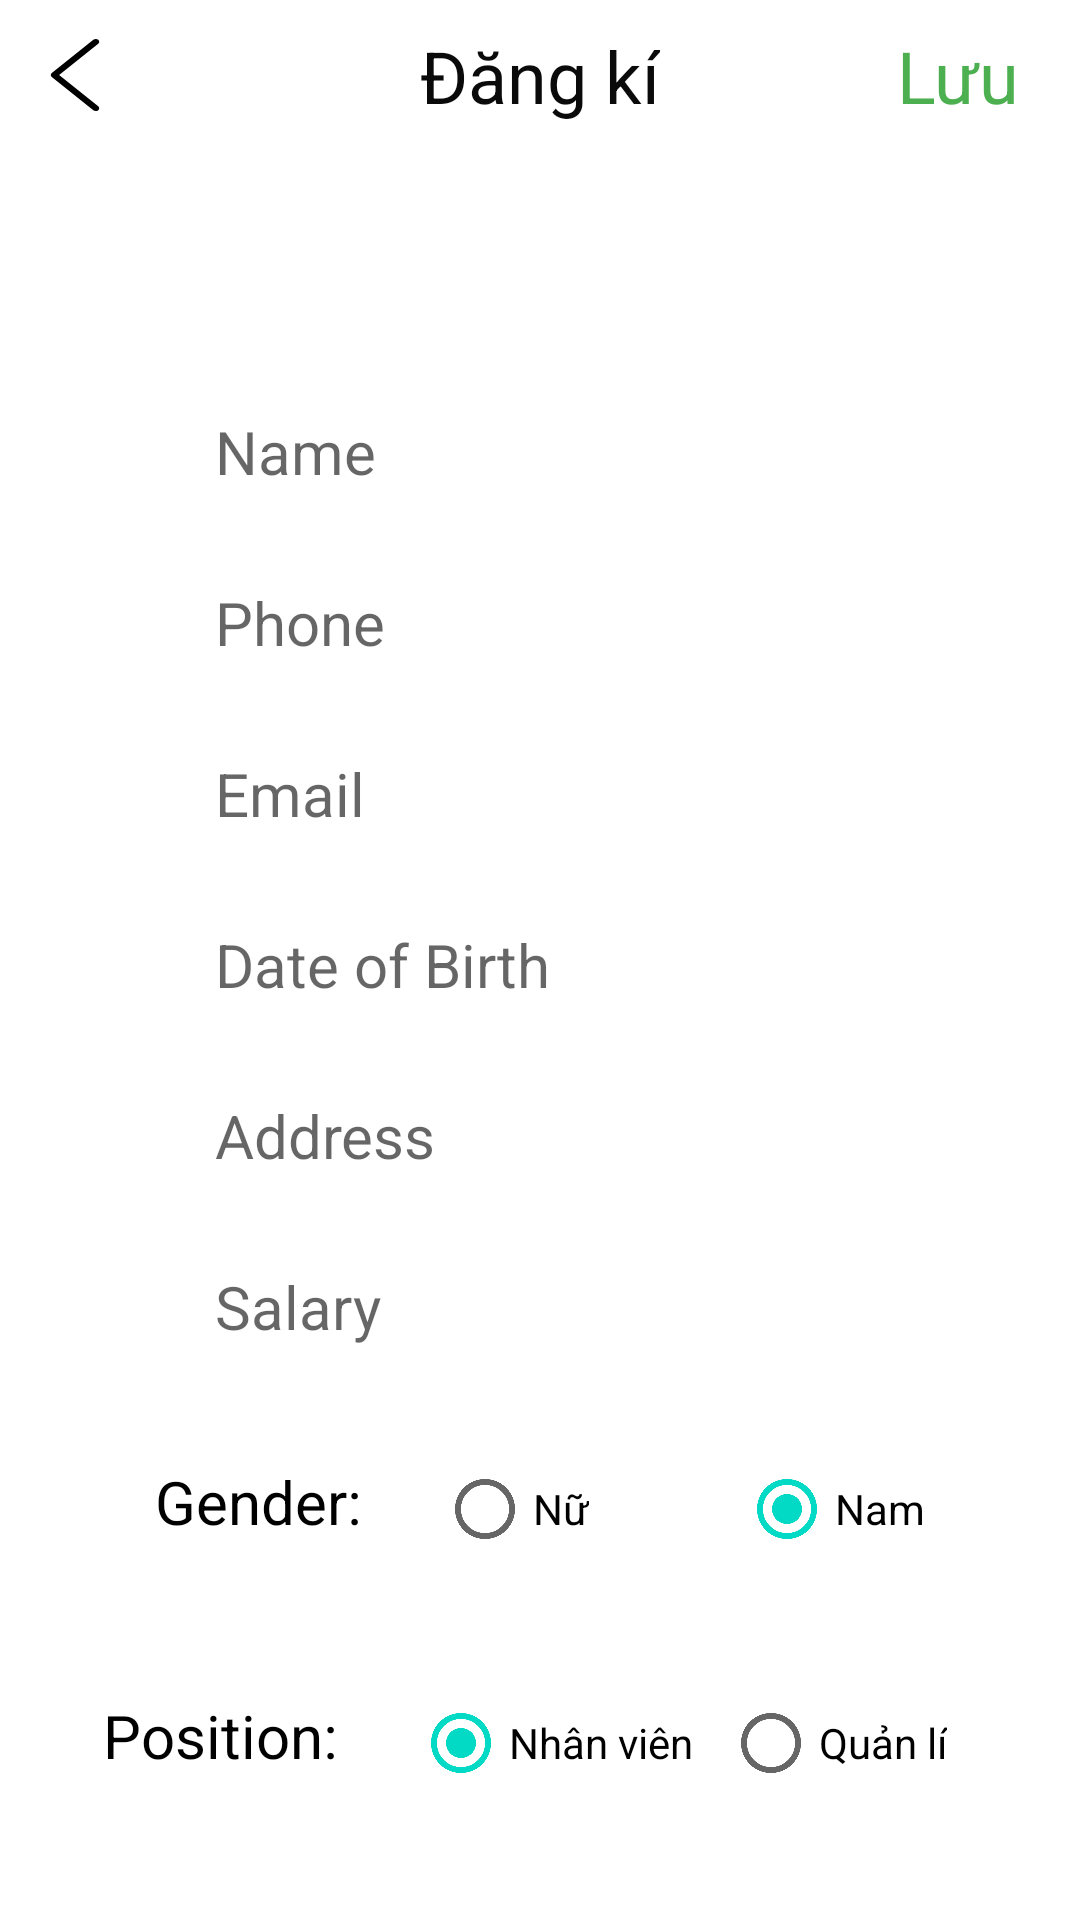

Where icons sit on this 1080 × 1920 app screen, as (x1, y1, x2, y2):
back: (51, 39, 100, 111)
